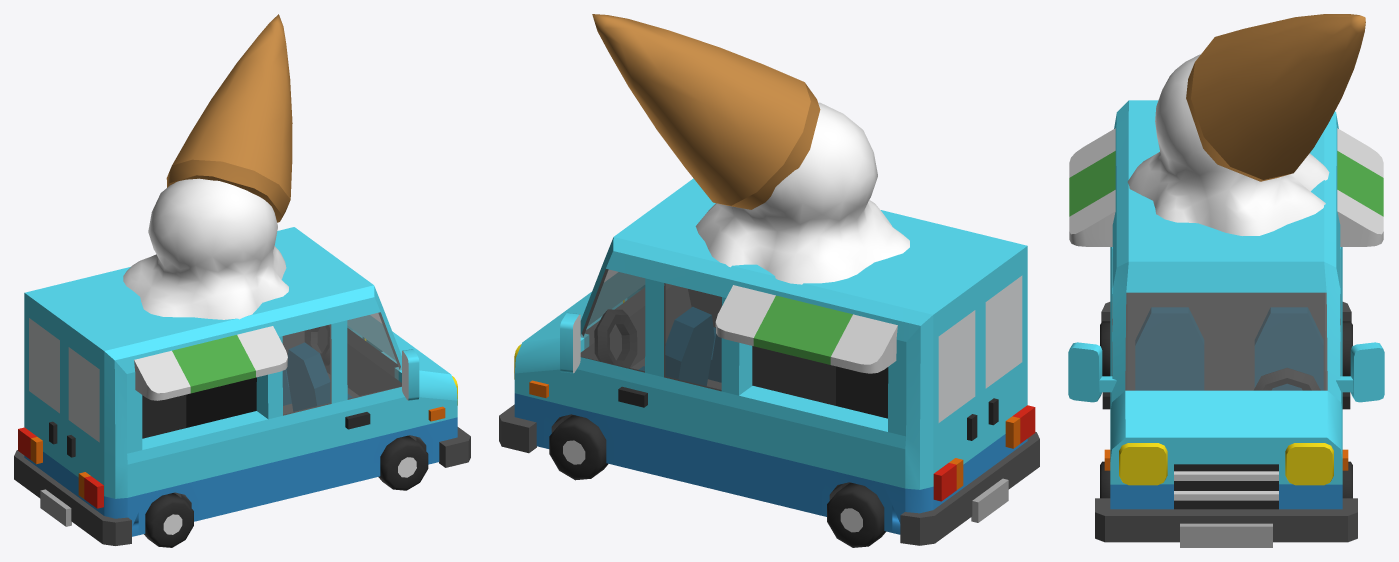
The model's file is car_hotdog_s02.FBX.
The picture shows the model from 3 angles, left to right: view 1: azimuth 30°, elevation 25°; view 2: azimuth 150°, elevation 25°; view 3: azimuth 270°, elevation 25°; orthographic projection. The views are drawn at different scales.
Visible parts, largest first — view 1: car_hotdog_s02; view 2: car_hotdog_s02; view 3: car_hotdog_s02.
Part boxes in pixels (box(x1,y1,x2,y2)): car_hotdog_s02: box(14, 14, 470, 547); car_hotdog_s02: box(499, 14, 1039, 547); car_hotdog_s02: box(1068, 14, 1384, 547).
Bounding box in the file's own units: 402 × 241 × 415.
2 materials, 1 textured.
